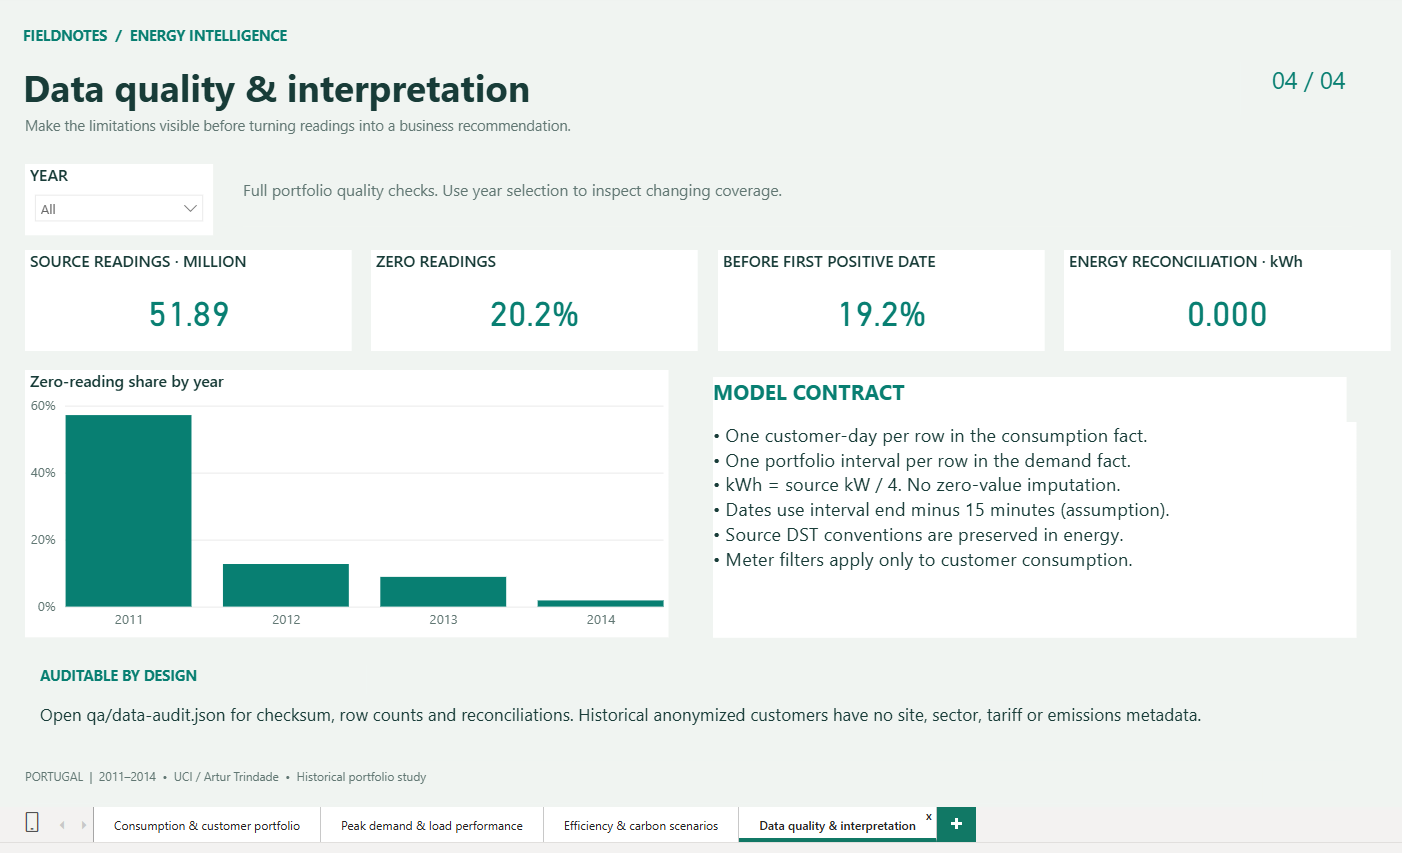

This screenshot's page, from the dashboard's own definition file:
{"tool":"powerbi","page":{"name":"Data quality & interpretation","canvas":[1440,800],"ordinal":3},"visuals":[{"type":"textbox","box":[28,10,1000,39.5],"z":52},{"type":"textbox","box":[28,47,1230,65],"z":53},{"type":"textbox","box":[30,101,1375,43],"z":54},{"type":"textbox","box":[1290,48,120,50],"z":55},{"type":"textbox","box":[30,759,1250,38],"z":56},{"type":"slicer","title":"YEAR","fields":{"Values":["Date.Year"]},"box":[30,151,190,72],"z":57},{"type":"textbox","box":[250,166,1120,48],"z":58},{"type":"card","title":"SOURCE READINGS · MILLION","fields":{"Values":["Metrics.Readings Million"]},"box":[30,237,330,102],"z":59},{"type":"card","title":"ZERO READINGS","fields":{"Values":["Metrics.Zero Share"]},"box":[380,237,330,102],"z":60},{"type":"card","title":"BEFORE FIRST POSITIVE DATE","fields":{"Values":["Metrics.Pre-activation Share"]},"box":[730,237,330,102],"z":61},{"type":"card","title":"ENERGY RECONCILIATION · kWh","fields":{"Values":["Metrics.Energy Reconciliation kWh"]},"box":[1080,237,330,102],"z":62},{"type":"clusteredColumnChart","title":"Zero-reading share by year","fields":{"Category":["Date.Year"],"Y":["Metrics.Zero Share"]},"box":[30,359,650,270],"z":63},{"type":"textbox","box":[725,366,640,47],"z":64},{"type":"textbox","box":[725,411,650,218],"z":65},{"type":"textbox","box":[45,657,330,39.5],"z":66},{"type":"textbox","box":[45,694,1320,59],"z":67}]}

Visuals, with their boxes on the page's 1440x800 design canvas (x1, y1, x2, y2). These are canvas units, not pixel positions in the 1402x853 screenshot, which may show the page scaled, cropped or inside an application window:
textbox: (28,10,1028,50)
textbox: (28,47,1258,112)
textbox: (30,101,1405,144)
textbox: (1290,48,1410,98)
textbox: (30,759,1280,797)
"YEAR" slicer: (30,151,220,223)
textbox: (250,166,1370,214)
"SOURCE READINGS · MILLION" card: (30,237,360,339)
"ZERO READINGS" card: (380,237,710,339)
"BEFORE FIRST POSITIVE DATE" card: (730,237,1060,339)
"ENERGY RECONCILIATION · kWh" card: (1080,237,1410,339)
"Zero-reading share by year" clusteredColumnChart: (30,359,680,629)
textbox: (725,366,1365,413)
textbox: (725,411,1375,629)
textbox: (45,657,375,696)
textbox: (45,694,1365,753)
